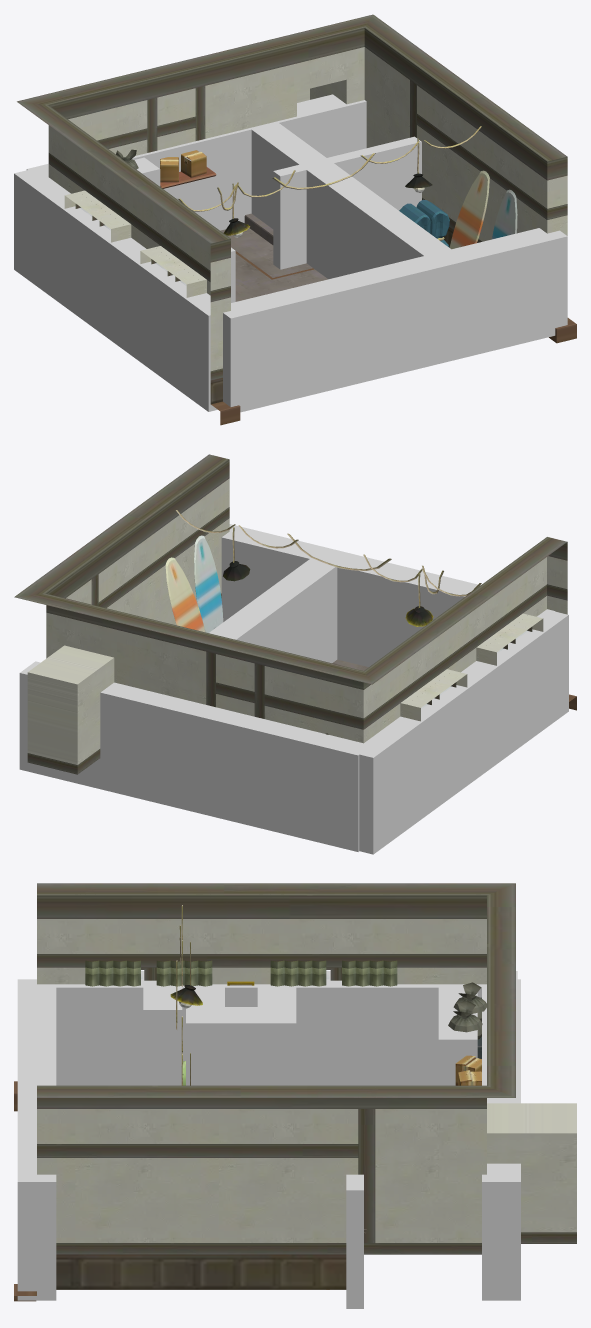
File: AboutShed.opt.glb
3 views of the same model, one above another, from view 1: azimuth 30°, elevation 25°; view 2: azimuth 150°, elevation 25°; view 3: azimuth 270°, elevation 25° (orthographic). The views are drawn at different scales.
Parts seen in each view (by area): view 1: Scene, COLL_All3, COLL_All2, COLL_All1, COLL_All4, COLL_All5, COLL_All6; view 2: Scene, COLL_All4, COLL_All2, COLL_All3, COLL_All1; view 3: Scene, COLL_All2, COLL_All3, COLL_All10, COLL_All4, COLL_All9, COLL_All6, COLL_All5, COLL_All7, COLL_All8.
Boxes of the visible parts, box(x1,y1,x2,y2) form: Scene: box(17, 14, 576, 425); COLL_All3: box(223, 228, 567, 412); COLL_All2: box(14, 167, 235, 411); COLL_All1: box(250, 121, 463, 279); COLL_All4: box(26, 94, 366, 230); COLL_All5: box(273, 136, 421, 269); COLL_All6: box(31, 157, 160, 196); Scene: box(14, 454, 576, 774); COLL_All4: box(19, 661, 373, 851); COLL_All2: box(346, 609, 568, 854); COLL_All3: box(221, 524, 555, 666); COLL_All1: box(132, 550, 348, 695); Scene: box(14, 883, 576, 1301); COLL_All2: box(38, 971, 517, 1085); COLL_All3: box(17, 979, 56, 1300); COLL_All10: box(190, 1007, 292, 1085); COLL_All4: box(482, 979, 520, 1300); COLL_All9: box(143, 982, 182, 1085); COLL_All6: box(438, 984, 477, 1085); COLL_All5: box(346, 1174, 363, 1308); COLL_All7: box(257, 984, 296, 1085); COLL_All8: box(186, 984, 224, 1085).
Bounding box in the file's own units: 20.64 × 9.46 × 22.4.
16 materials, 16 textured.
